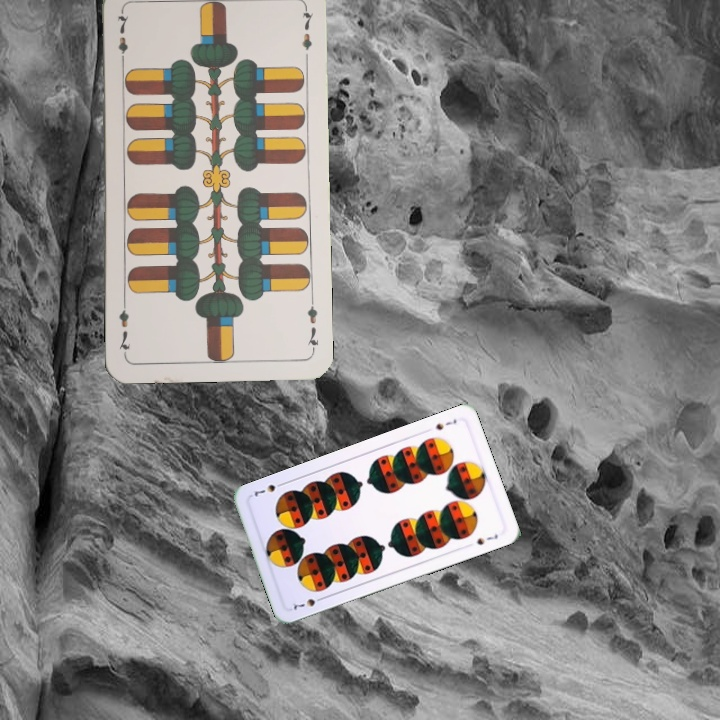E7: (303, 295, 322, 354), (114, 8, 131, 67)
S7: (287, 593, 327, 613), (432, 415, 459, 433)
